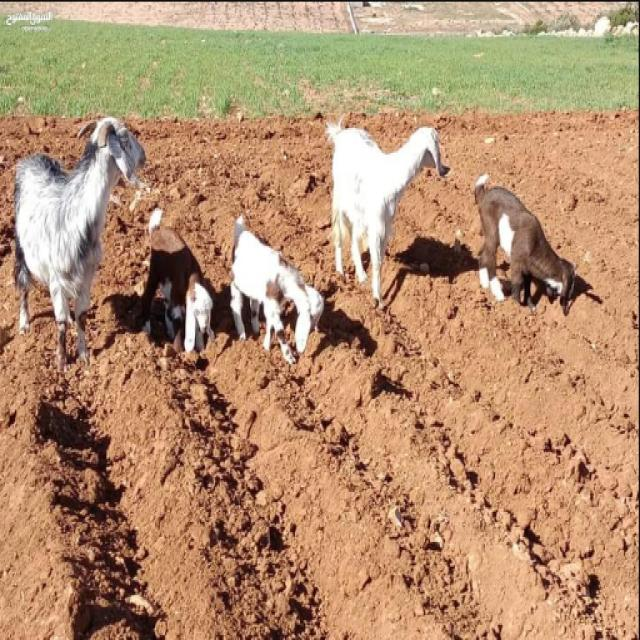goat: (8, 104, 160, 396), (318, 100, 448, 324), (474, 170, 594, 386), (235, 175, 315, 382), (142, 206, 226, 386)
